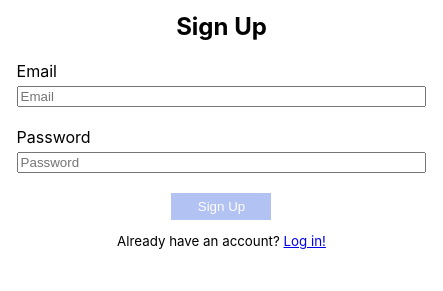
Scenario: signup not allowed with long password
Type "password_that_is_too_long_for_our_login_form" into the password field labelled "Password" at (222, 162), box 17,152 -> 426,173
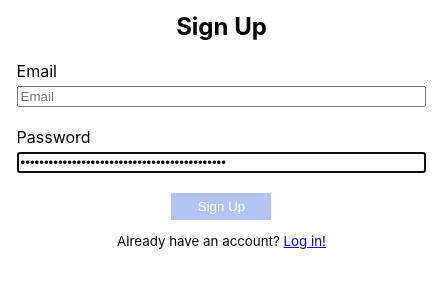
Type "mock@email.com" into the field labelled "Email" at (222, 96), box 17,86 -> 426,107
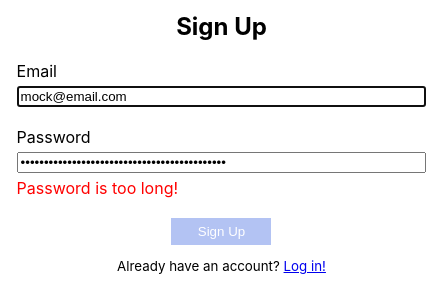
Expected: the button is disabled, 172,218 -> 272,245
Expected: the text "Password is too long!" is shown, 17,178 -> 178,198
